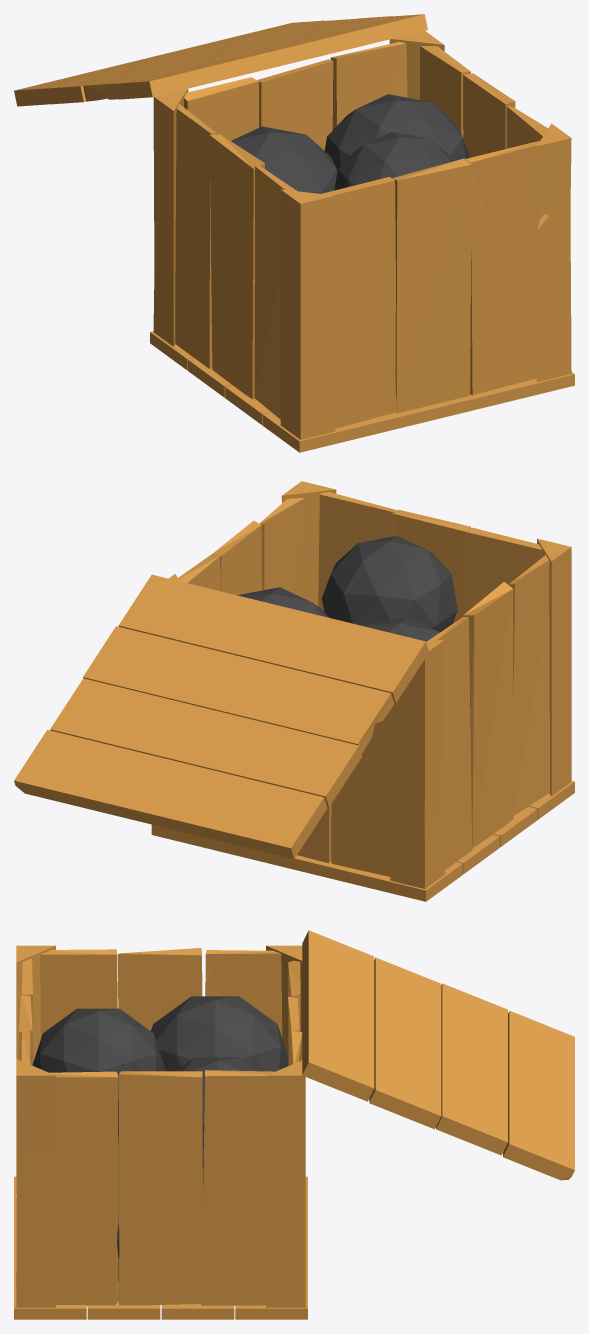
Rendered from crate_cannonball.fbx.
The picture shows the model from 3 angles, top to bottom: view 1: azimuth 30°, elevation 25°; view 2: azimuth 150°, elevation 25°; view 3: azimuth 270°, elevation 25°; orthographic projection.
Parts seen in each view (by area): view 1: crate_cannonball; view 2: crate_cannonball; view 3: crate_cannonball.
Part boxes in pixels (<box>): crate_cannonball: <box>14,14,574,452</box>; crate_cannonball: <box>14,481,574,901</box>; crate_cannonball: <box>14,930,574,1319</box>.
Bounding box in the file's own units: 0.7148 × 0.6407 × 1.27.
